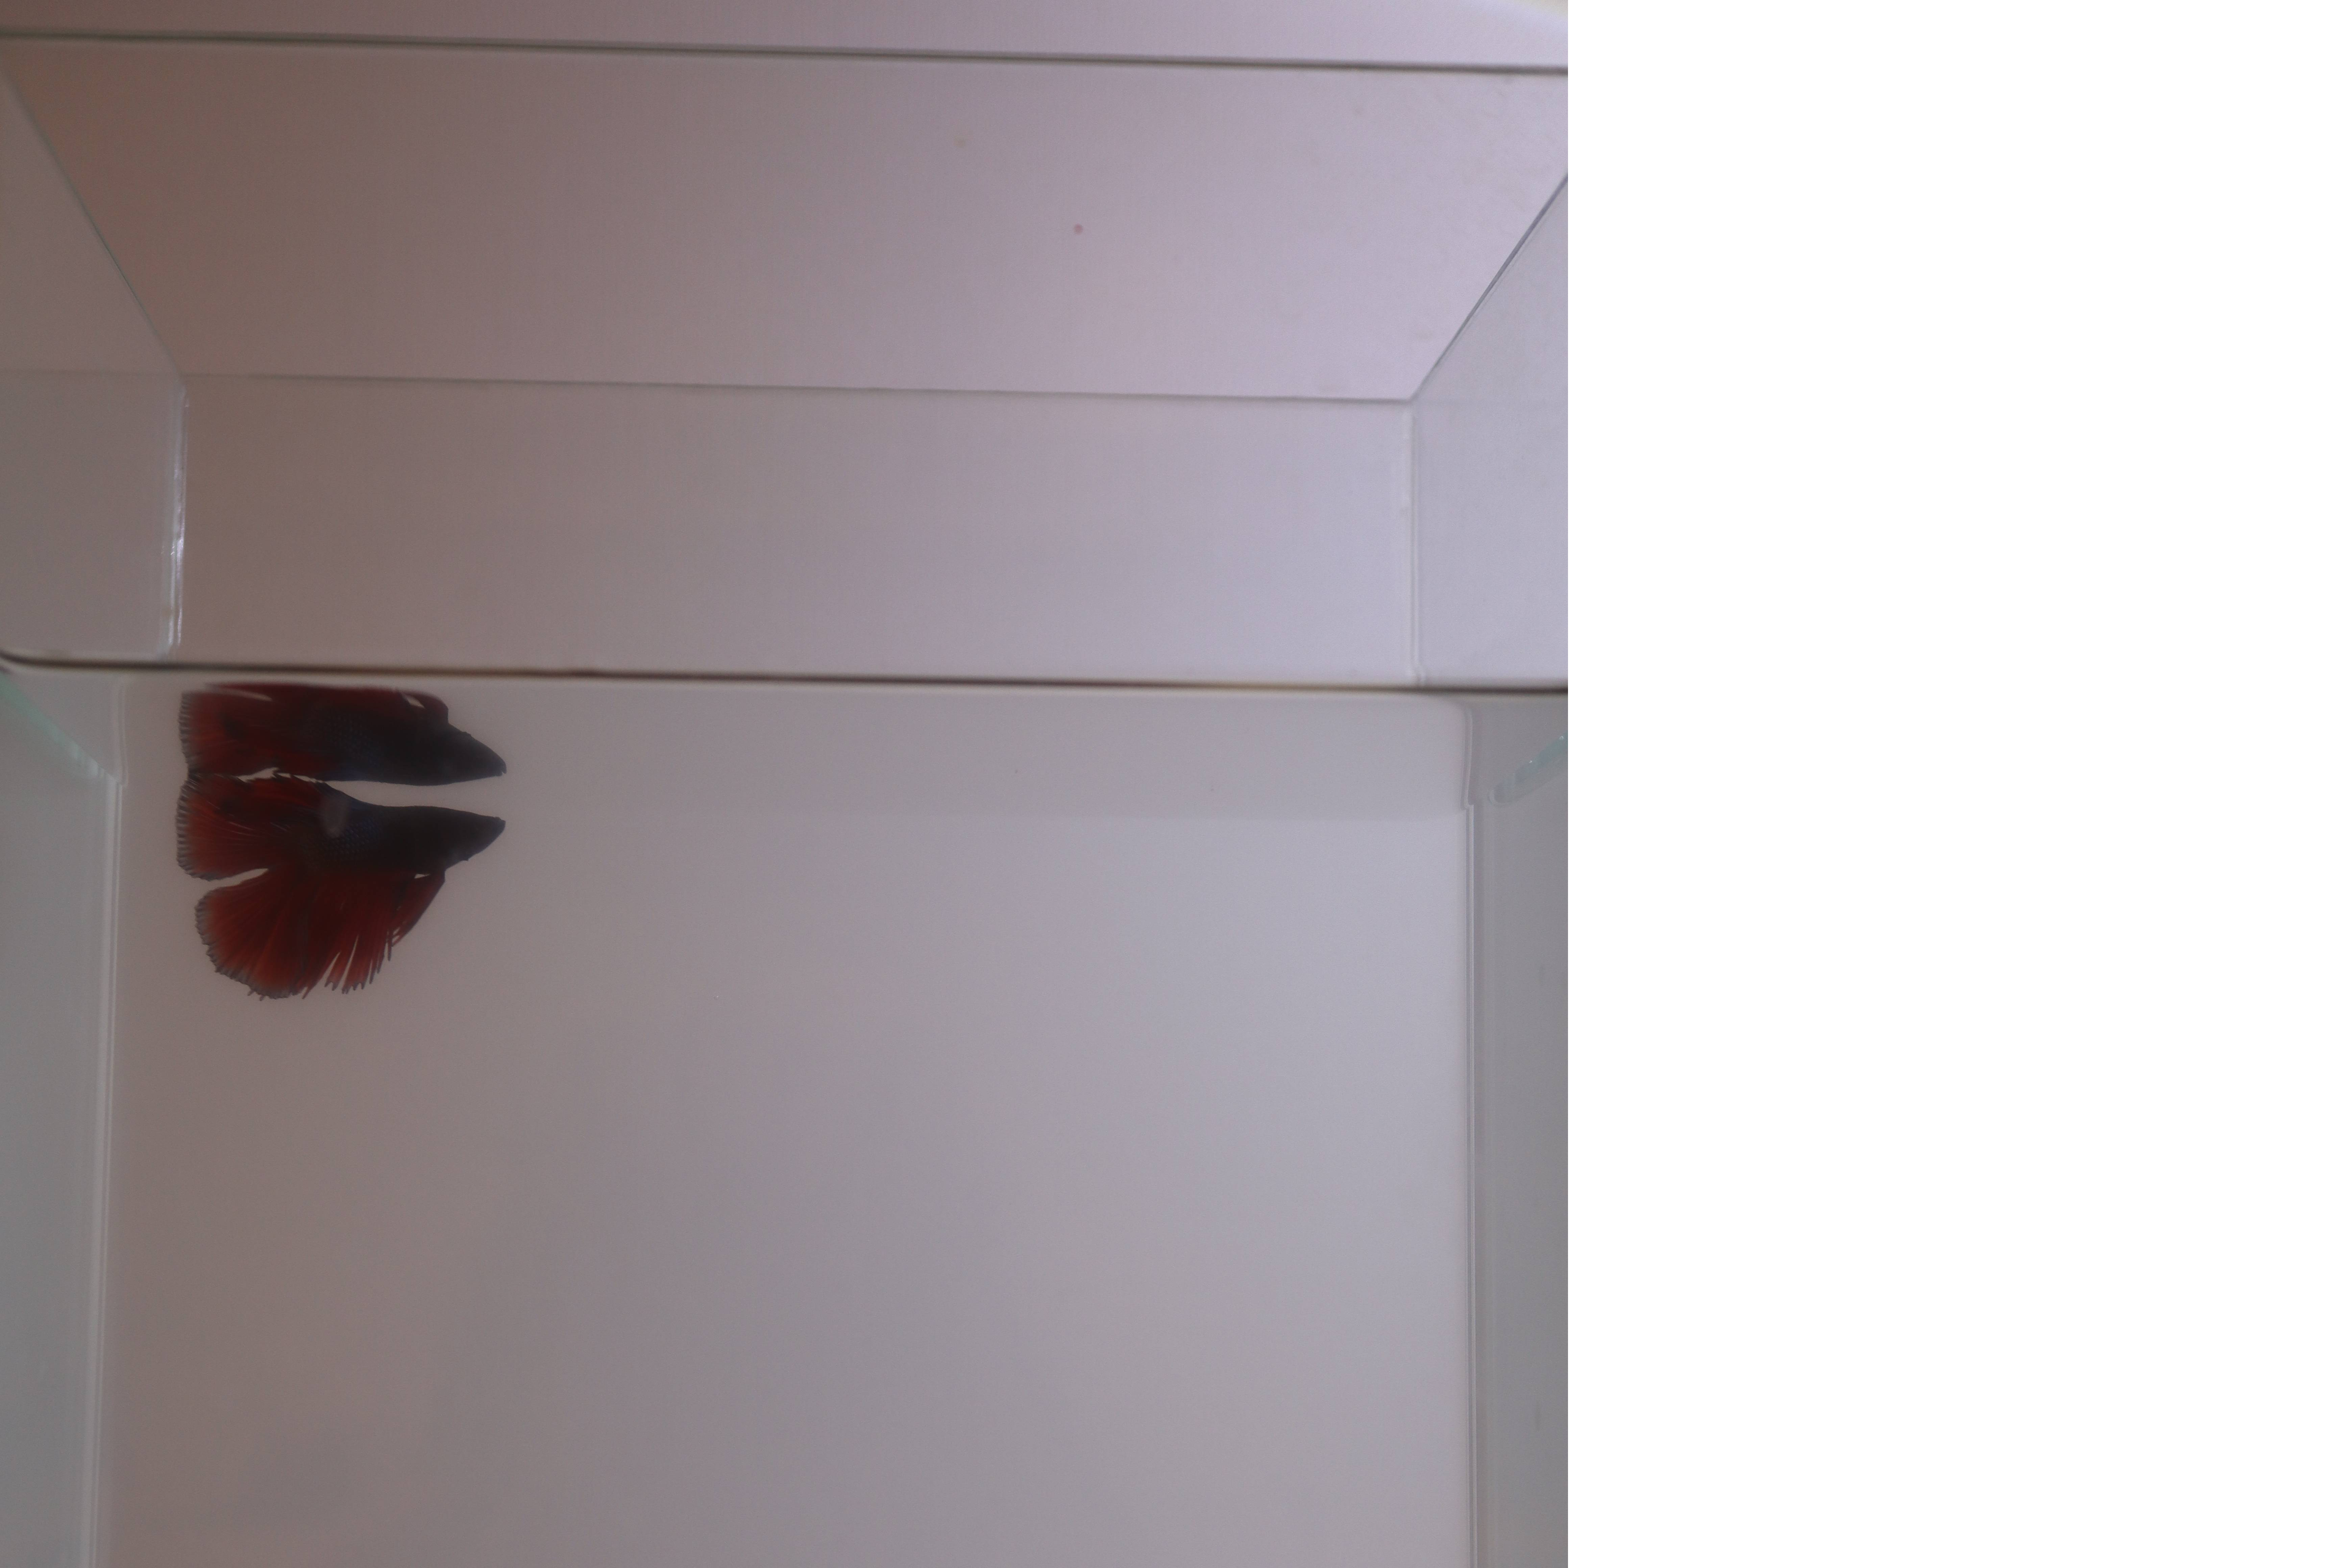fish: (147, 756, 520, 1004)
